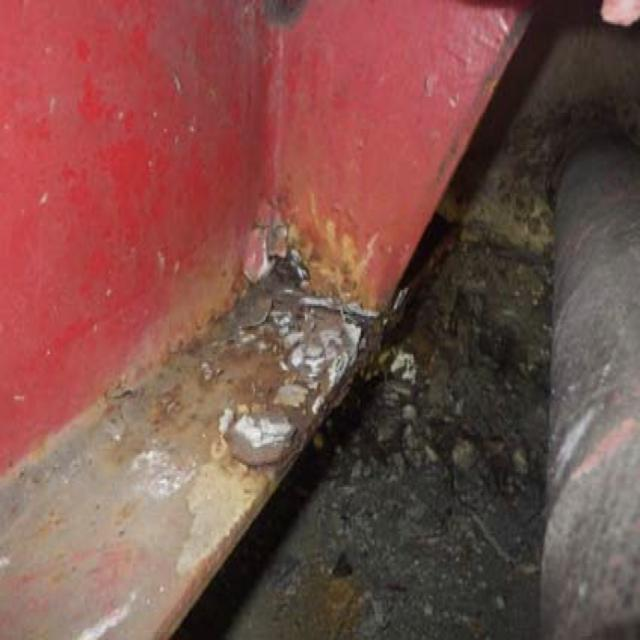corrosion: (109, 212, 397, 482)
